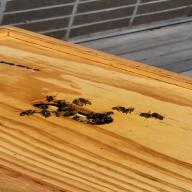Bee: (16, 105, 40, 122), (142, 110, 164, 123), (114, 102, 135, 114), (76, 98, 96, 110)
